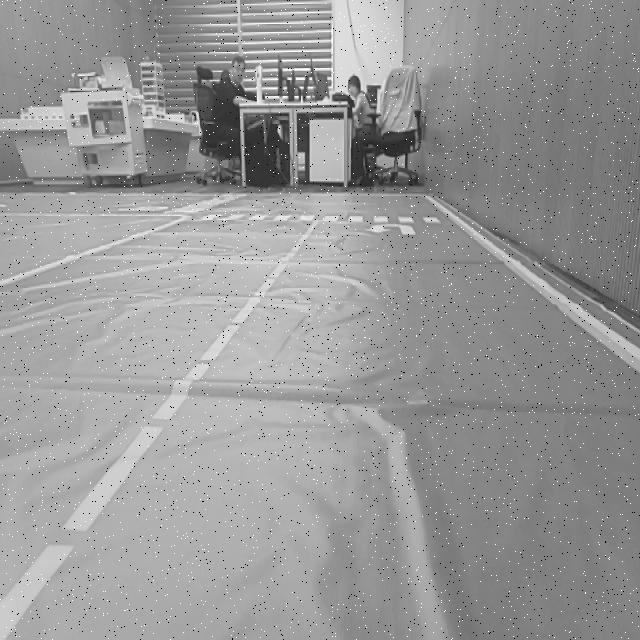left_lane: (1, 222, 318, 638)
right_lane: (433, 202, 640, 375)
